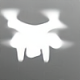plane: (1, 7, 75, 64)
